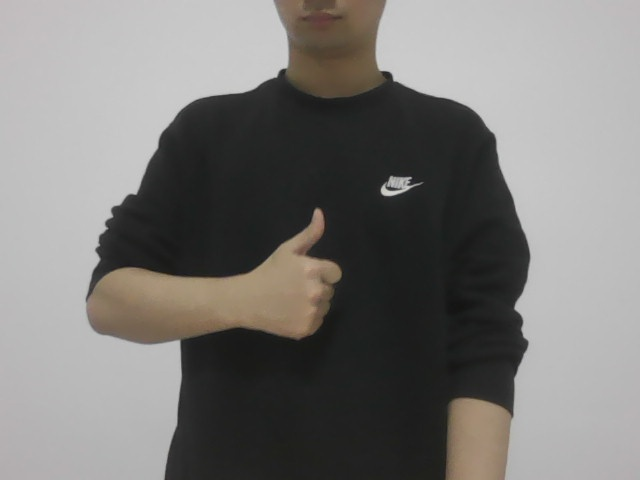good: (254, 198, 342, 344)
